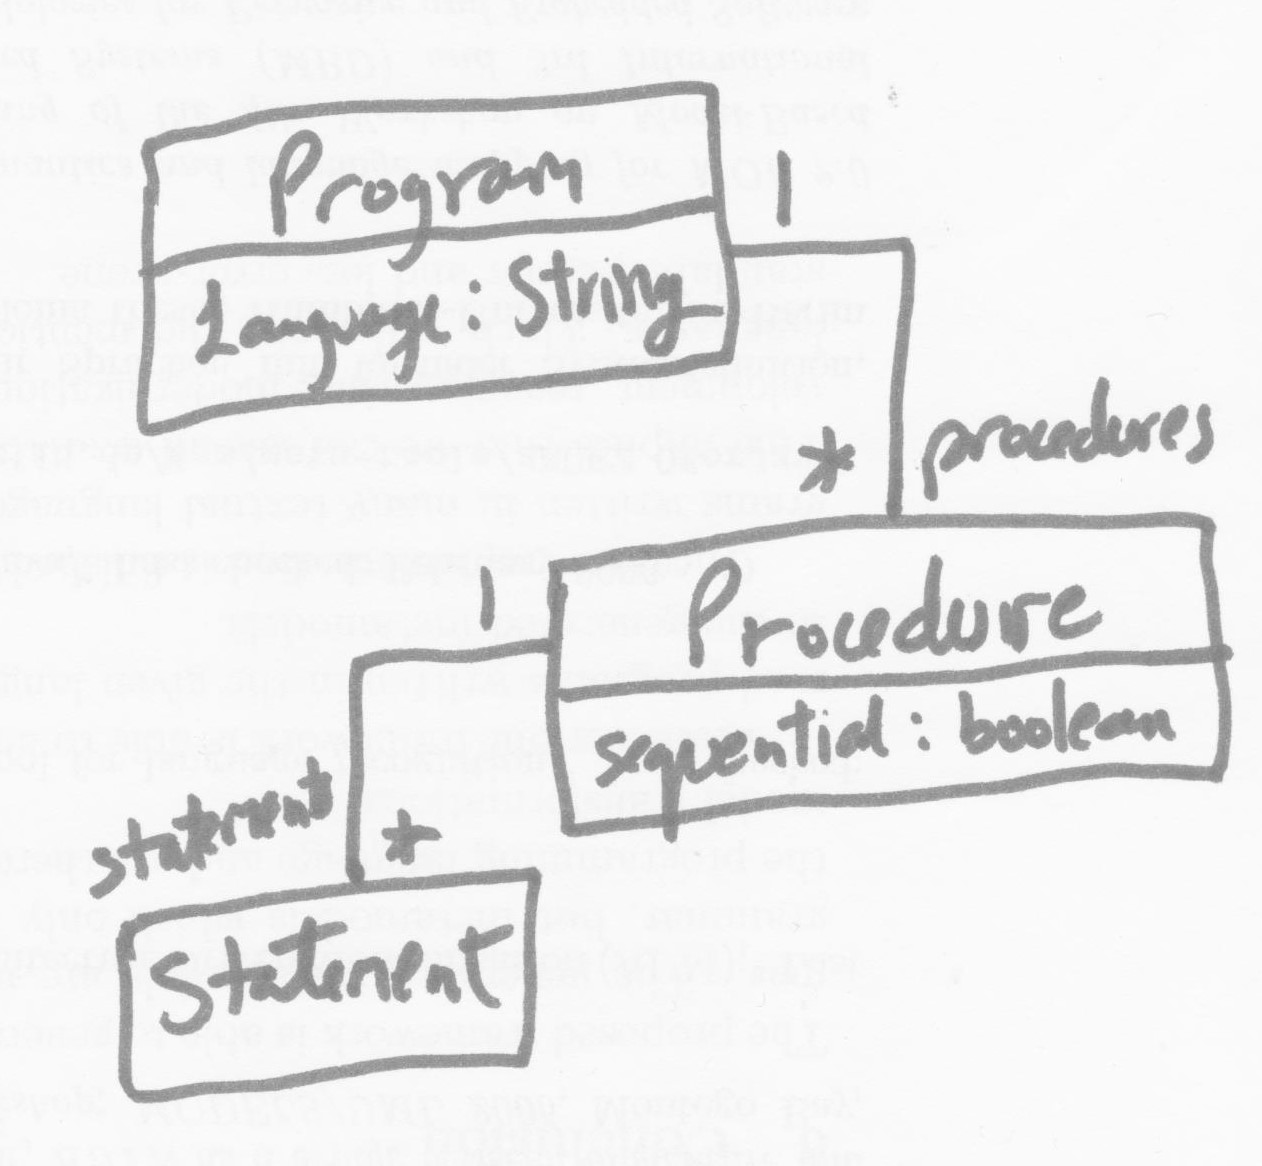association: (723, 142, 1218, 522), (94, 553, 554, 888)
class attributes: (540, 512, 1244, 843), (133, 76, 743, 437), (108, 863, 546, 1106)
